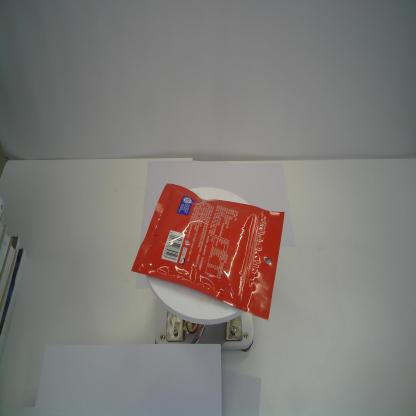Dried Fruit: (130, 182, 286, 322)
